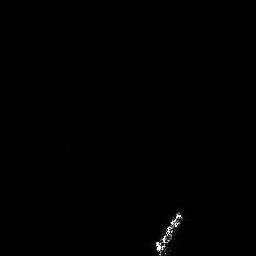ship: (150, 206, 187, 256)
